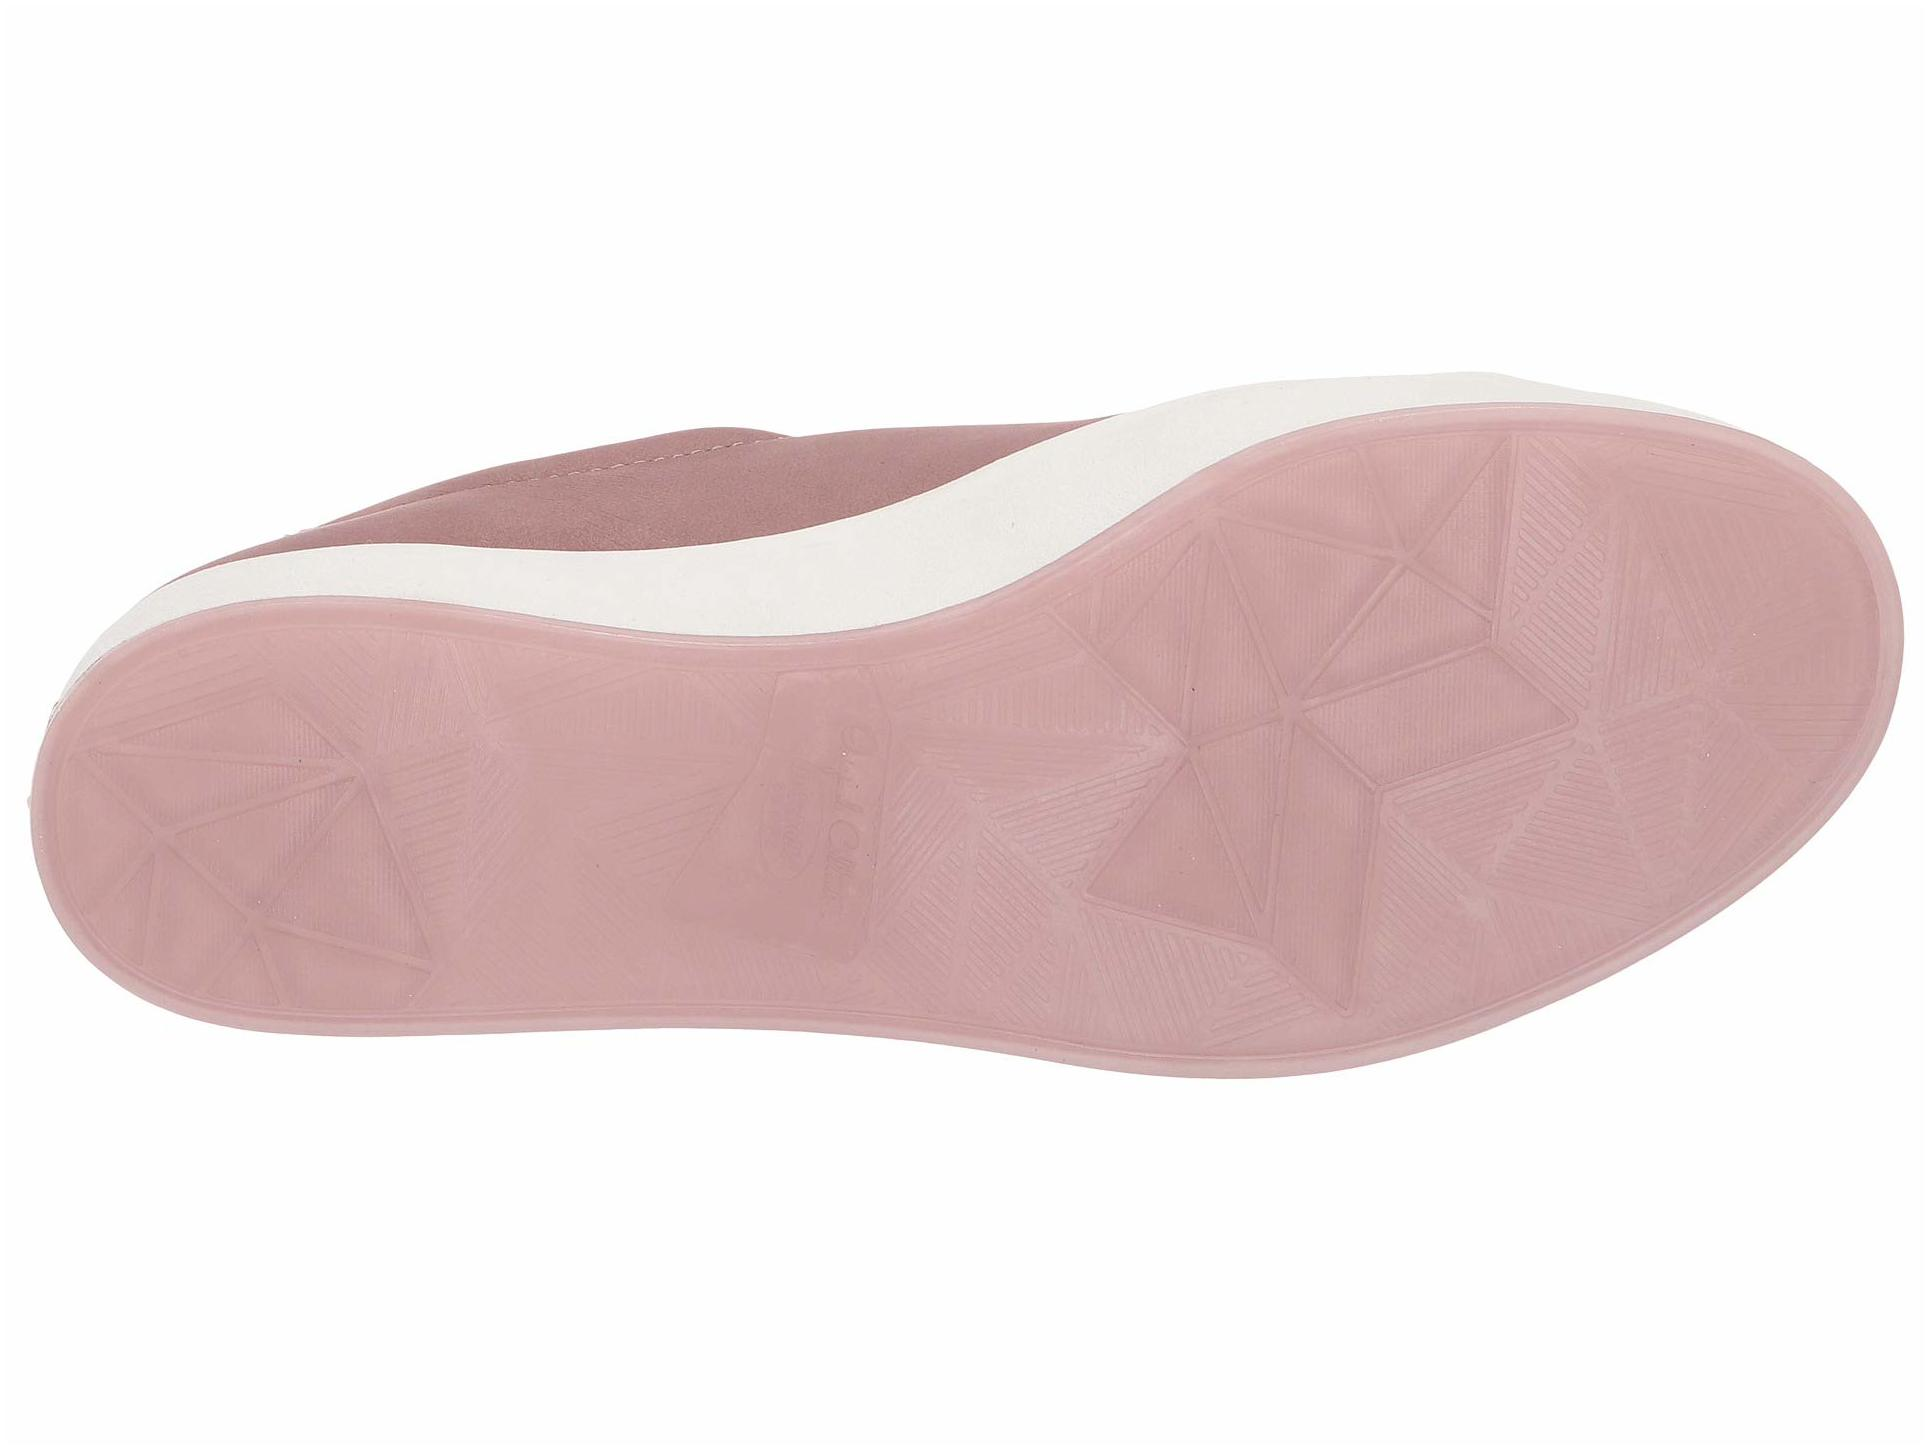quad: (1214, 493, 1592, 861)
text: (679, 675, 1015, 981)
triangle: (1214, 493, 1592, 861)
